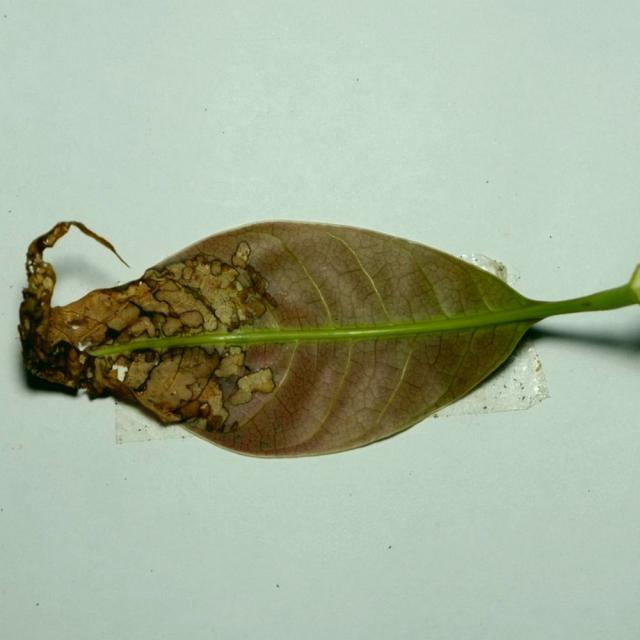Anthracnose: (216, 351, 284, 426)
Mango: (17, 222, 639, 462)
